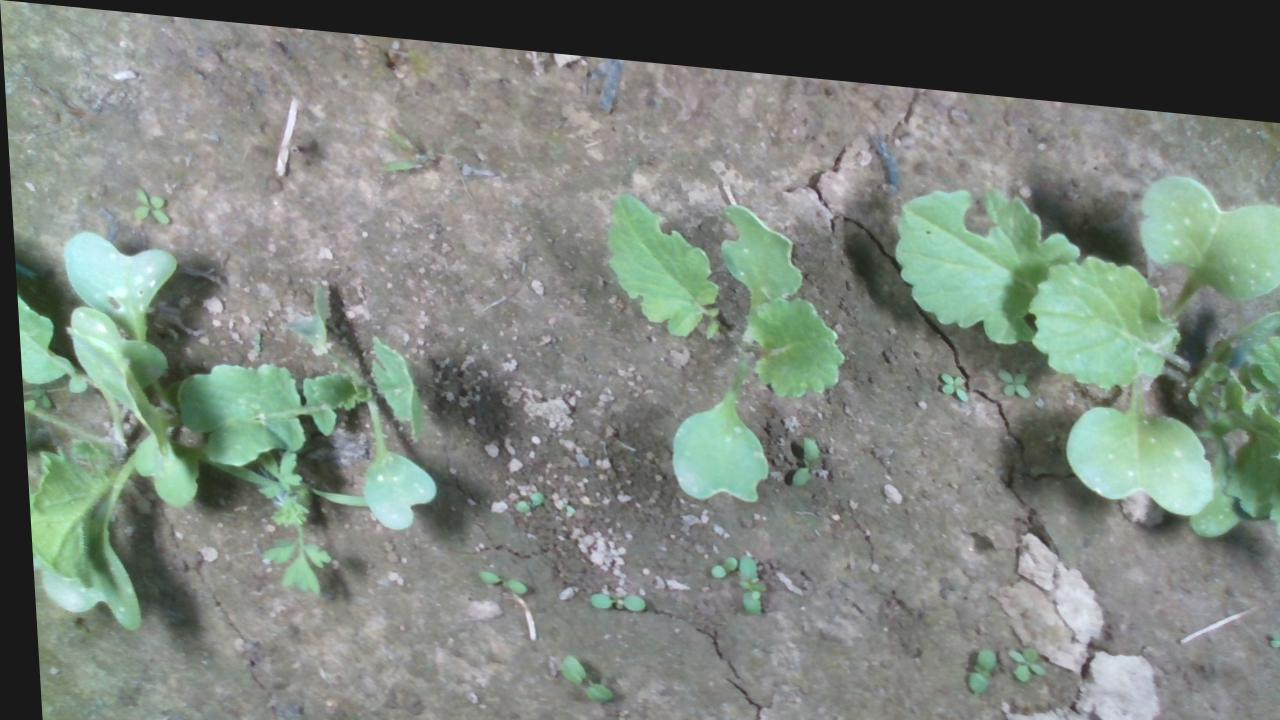weed: (548, 640, 607, 694), (730, 537, 762, 604), (781, 417, 818, 474), (998, 622, 1041, 665), (127, 180, 167, 221), (958, 627, 991, 675), (579, 576, 641, 601), (469, 557, 522, 586), (991, 345, 1028, 378), (933, 351, 966, 384), (701, 536, 732, 566), (507, 479, 538, 505), (823, 706, 868, 719)
